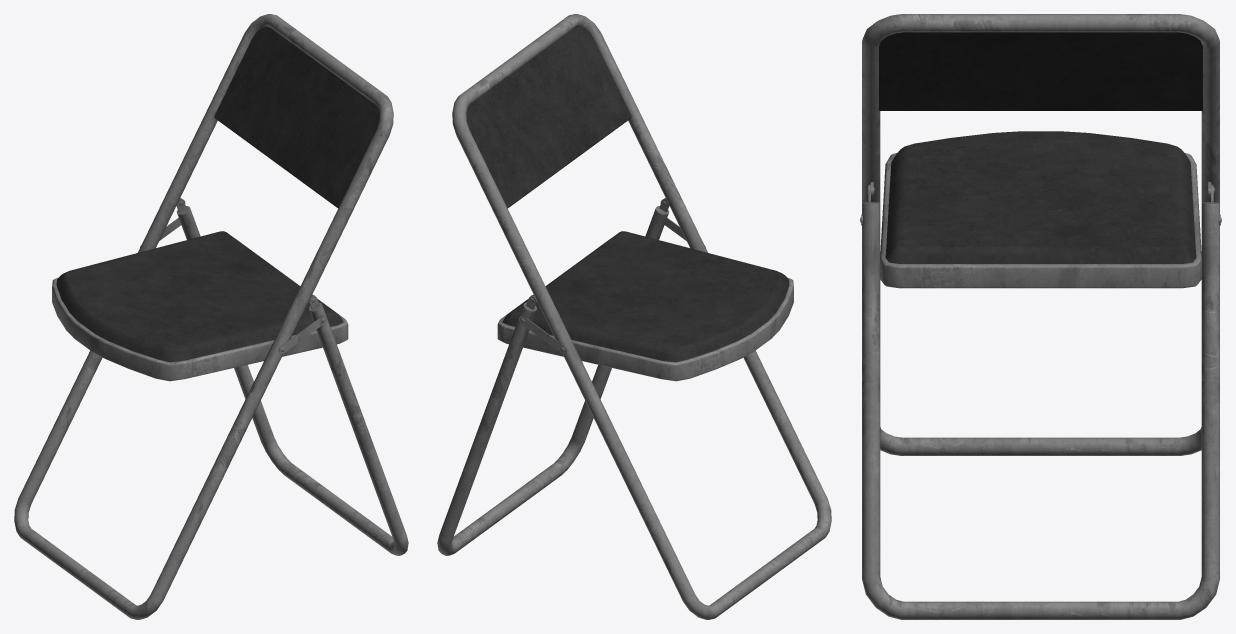
File: SM_Folding.fbx
3 renders of one model, left to right at view 1: azimuth 30°, elevation 25°; view 2: azimuth 150°, elevation 25°; view 3: azimuth 270°, elevation 25°, orthographic. The views are drawn at different scales.
Visible parts, largest first — view 1: SM_Folding_LOD0; view 2: SM_Folding_LOD0; view 3: SM_Folding_LOD0.
Boxes of the visible parts, <box> form: SM_Folding_LOD0: <box>14,14,408,619</box>; SM_Folding_LOD0: <box>437,14,831,619</box>; SM_Folding_LOD0: <box>860,14,1221,619</box>.
Bounding box in the file's own units: 55.13 × 48.99 × 89.1.
Materials: 1 (1 with a texture image).
